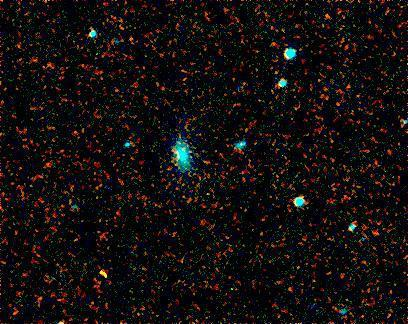star: (90, 257, 120, 287)
